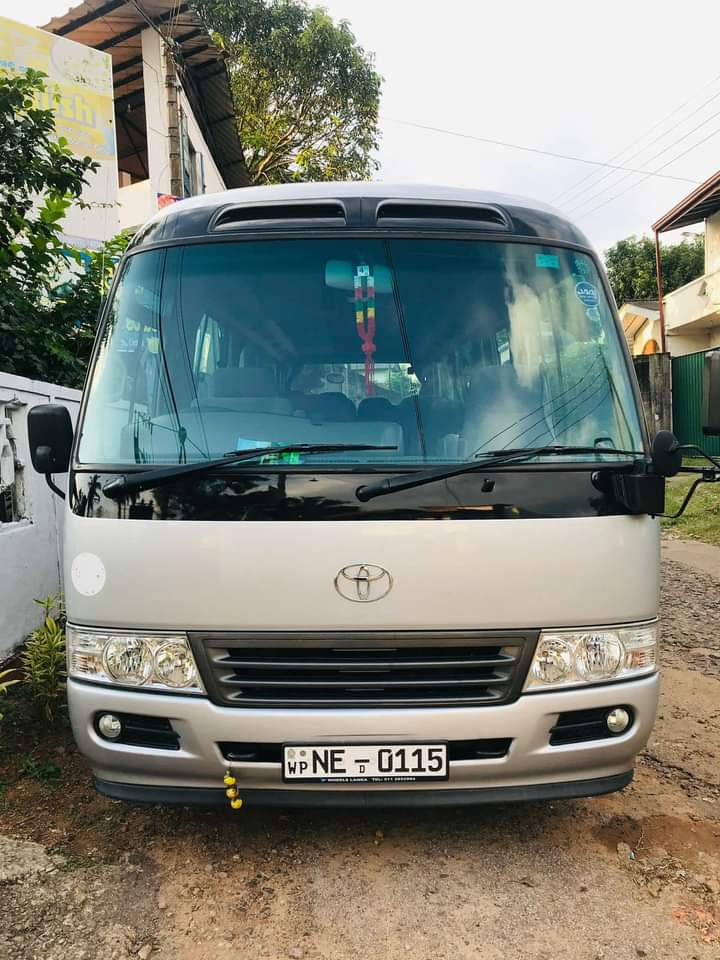number_plate: (282, 744, 449, 781)
